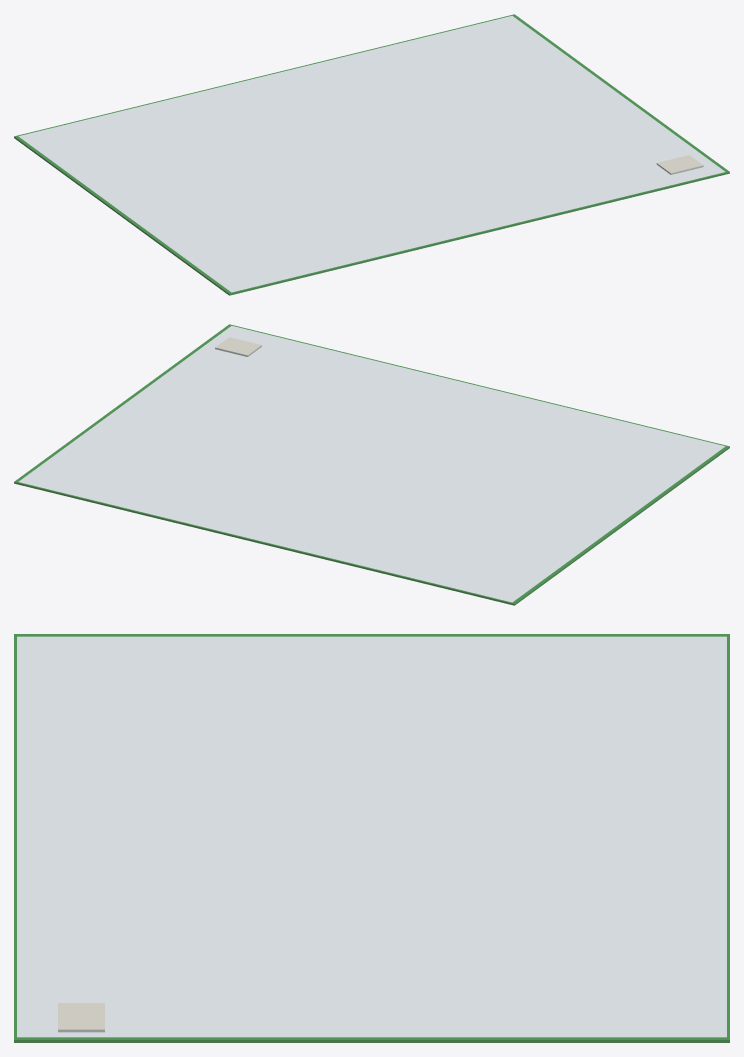
Rendered from glass_sheet.glb.
The picture shows the model from 3 angles, top to bottom: view 1: azimuth 30°, elevation 25°; view 2: azimuth 150°, elevation 25°; view 3: azimuth 270°, elevation 25°; orthographic projection. The views are drawn at different scales.
Parts seen in each view (by area): view 1: glass_sheet:compound; view 2: glass_sheet:compound; view 3: glass_sheet:compound.
Part boxes in pixels (left/top/right/bottom): glass_sheet:compound: left=14, top=14, right=729, bottom=295; glass_sheet:compound: left=14, top=324, right=729, bottom=605; glass_sheet:compound: left=14, top=634, right=729, bottom=1042.
Size of the model in its own units: 1.22 by 0.004 by 0.912.
